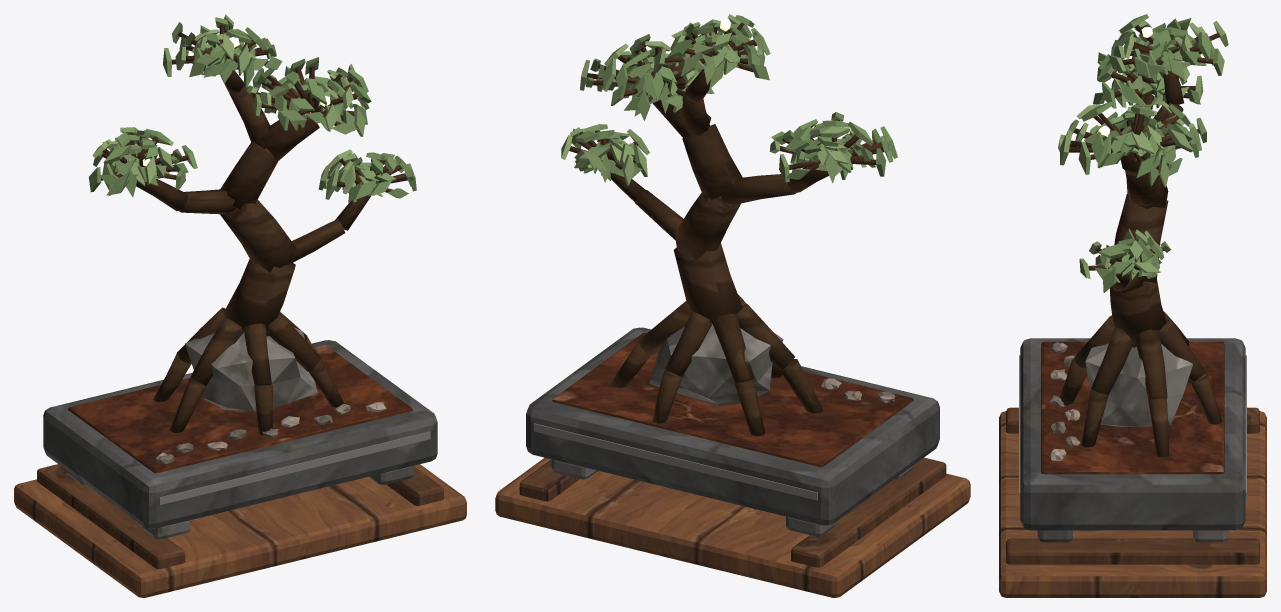
Rendered from root_bonsai.glb.
3 renders of one model, left to right at view 1: azimuth 30°, elevation 25°; view 2: azimuth 150°, elevation 25°; view 3: azimuth 270°, elevation 25°, orthographic. The views are drawn at different scales.
Visible parts, largest first — view 1: model; view 2: model; view 3: model.
Boxes of the visible parts, bbox=[...] form: model: bbox=[14, 14, 466, 597]; model: bbox=[495, 14, 970, 597]; model: bbox=[999, 14, 1266, 597].
Size of the model in its own units: 0.5608 by 0.7796 by 0.38.
15 materials, 10 textured.
